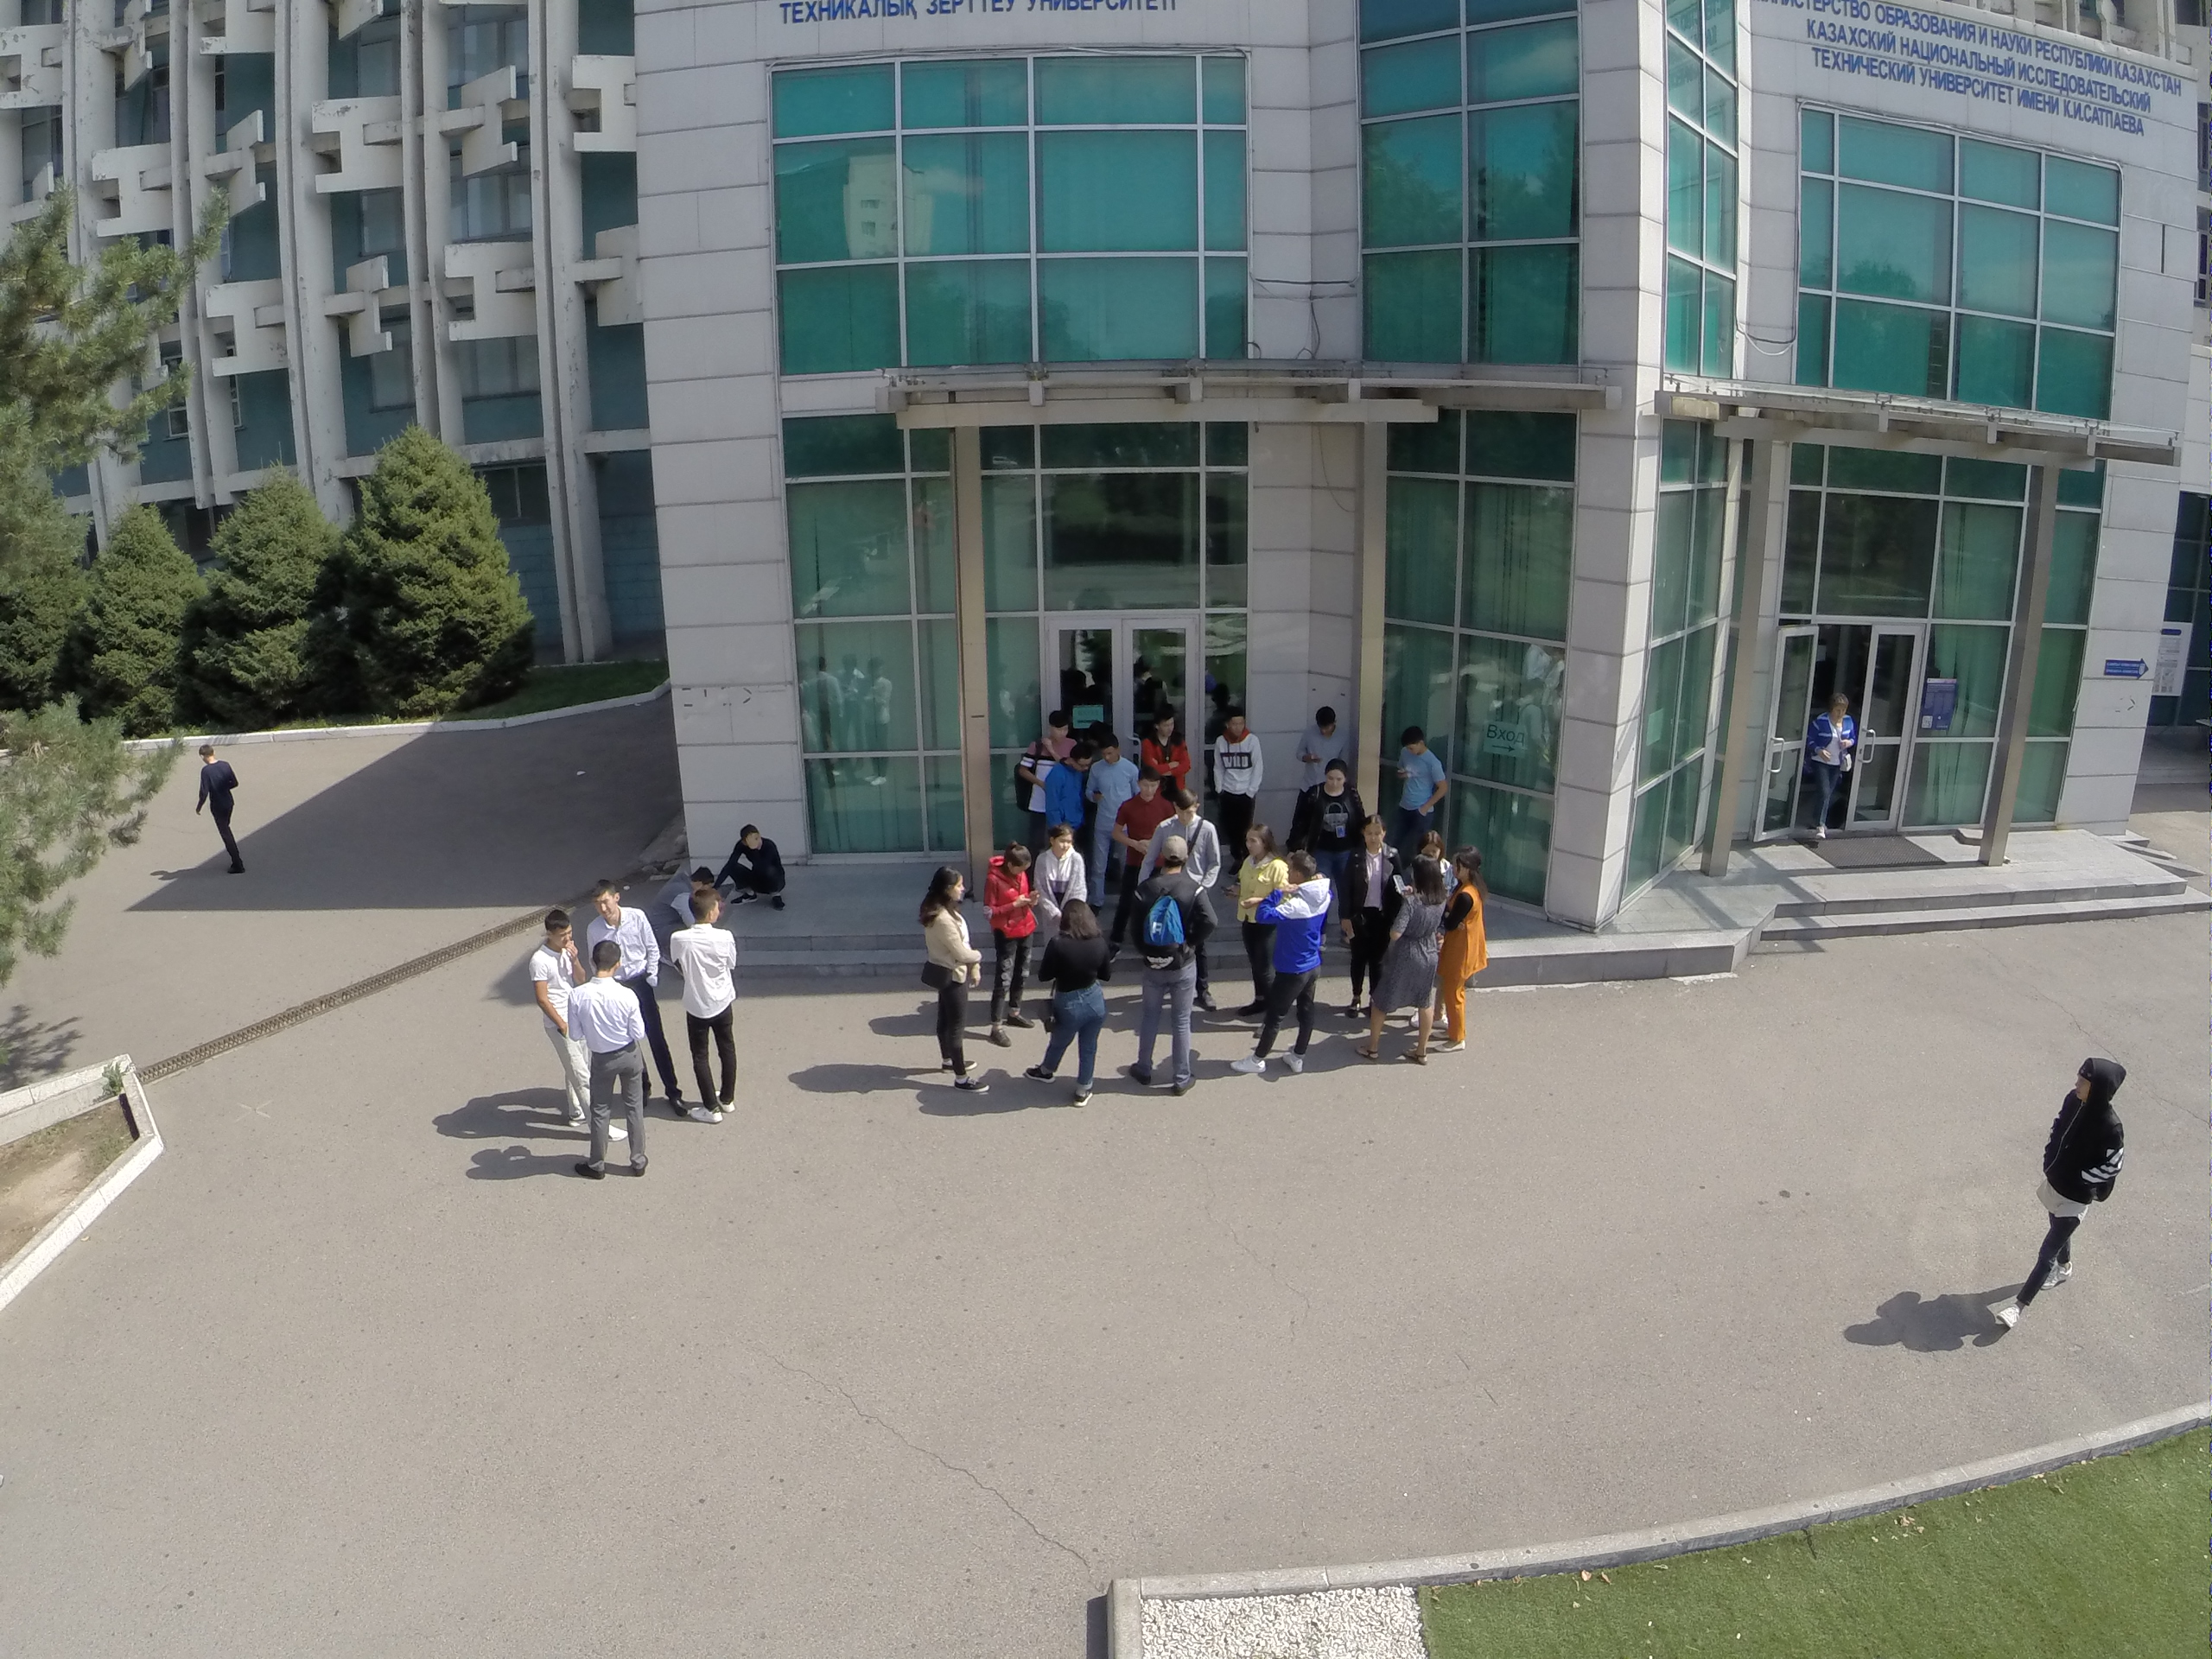person: (1977, 1041, 2128, 1349), (1237, 842, 1333, 1084), (569, 936, 655, 1181), (668, 885, 752, 1132), (1361, 859, 1447, 1076), (1032, 886, 1114, 1106), (915, 860, 986, 1103), (530, 904, 596, 1127), (1429, 865, 1491, 1062), (1225, 832, 1287, 1020), (586, 868, 664, 1018), (984, 837, 1037, 1046), (183, 738, 254, 882), (1343, 806, 1388, 1022), (1799, 690, 1860, 843), (710, 816, 792, 910), (1211, 703, 1264, 833), (1393, 721, 1451, 833), (1030, 813, 1090, 913), (1303, 757, 1367, 847), (1112, 763, 1168, 860), (1017, 695, 1063, 815), (1038, 743, 1098, 825), (1089, 737, 1133, 818), (1300, 698, 1342, 783), (1145, 714, 1185, 792)
